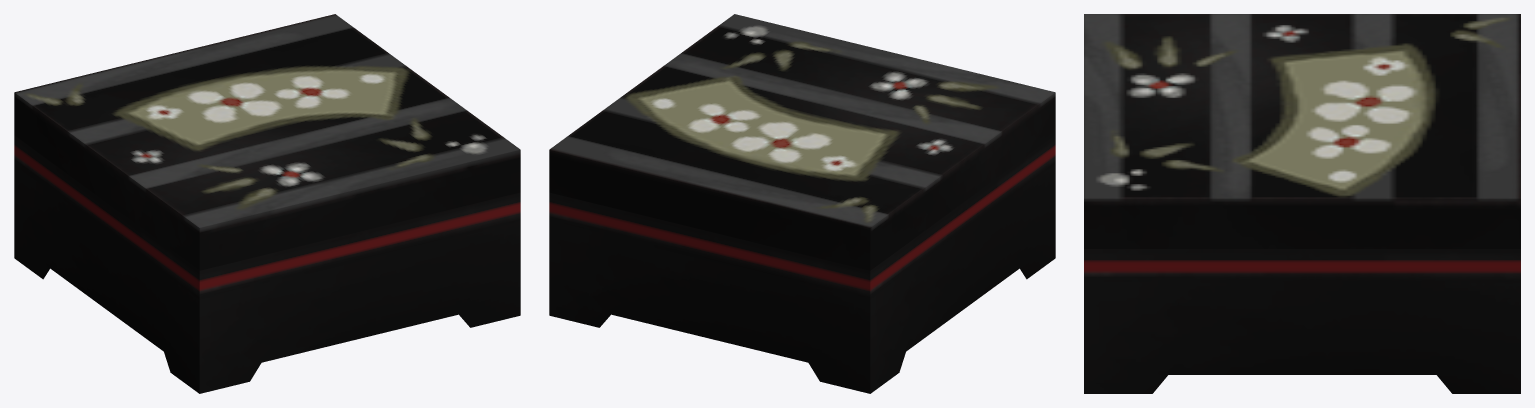
The model's file is GAM_FoodBento.FBX.
3 renders of one model, left to right at view 1: azimuth 30°, elevation 25°; view 2: azimuth 150°, elevation 25°; view 3: azimuth 270°, elevation 25°, orthographic. The views are drawn at different scales.
Visible parts, largest first — view 1: GAM_FoodBentoTop, GAM_FoodBento; view 2: GAM_FoodBentoTop, GAM_FoodBento; view 3: GAM_FoodBentoTop, GAM_FoodBento.
Boxes of the visible parts, box(x1,y1,x2,y2) form: GAM_FoodBentoTop: box(14, 14, 520, 270); GAM_FoodBento: box(14, 135, 520, 393); GAM_FoodBentoTop: box(549, 14, 1055, 270); GAM_FoodBento: box(549, 135, 1055, 393); GAM_FoodBentoTop: box(1084, 14, 1520, 248); GAM_FoodBento: box(1084, 249, 1520, 393).
Size of the model in its own units: 50 by 24.69 by 50.
1 material, 1 textured.
